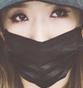with_mask: (2, 2, 83, 88)
